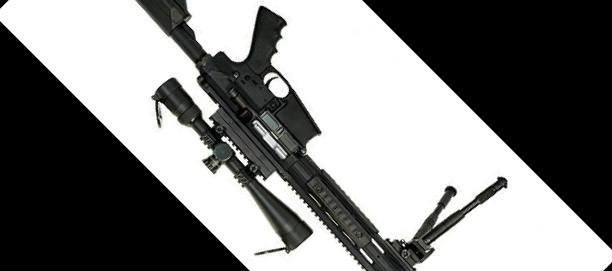larga: (135, 0, 509, 271)
